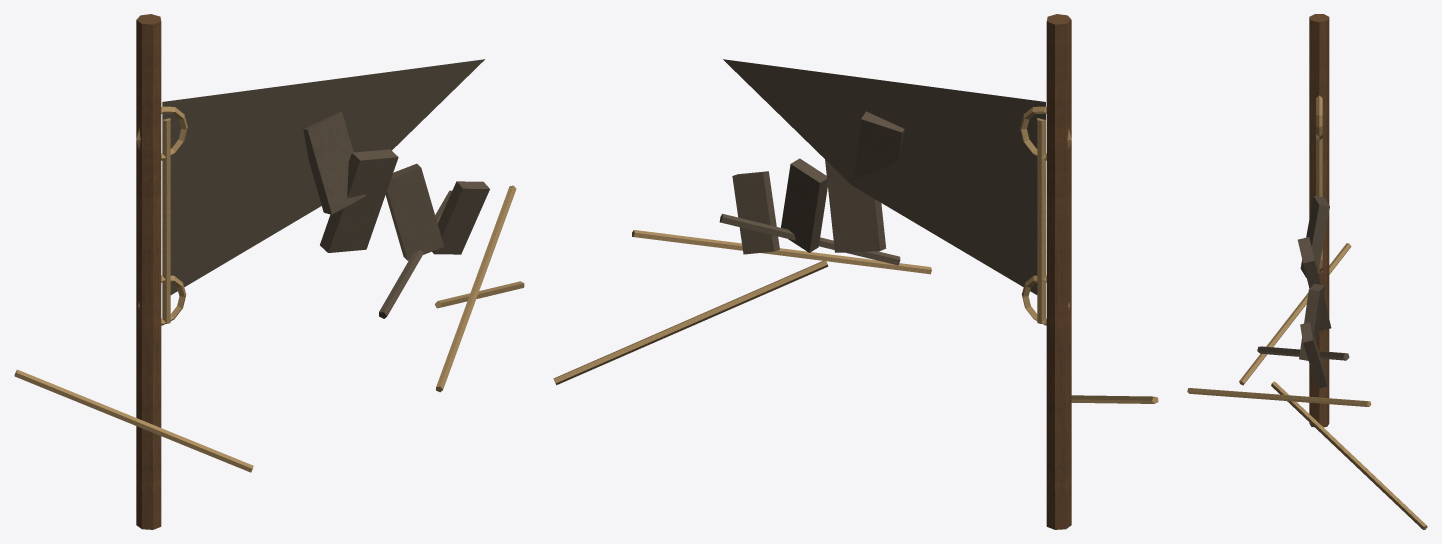
The model's file is pr-014_signal_flag_cloth_strip__storm_damaged.obj.
3 renders of one model, left to right at view 1: azimuth 30°, elevation 25°; view 2: azimuth 150°, elevation 25°; view 3: azimuth 270°, elevation 25°, orthographic. The views are drawn at different scales.
Parts seen in each view (by area): view 1: pr-014_signal_flag_cloth_strip__storm_damaged; view 2: pr-014_signal_flag_cloth_strip__storm_damaged; view 3: pr-014_signal_flag_cloth_strip__storm_damaged.
Part boxes in pixels (left/top/right/bottom): pr-014_signal_flag_cloth_strip__storm_damaged: left=14, top=14, right=524, bottom=529; pr-014_signal_flag_cloth_strip__storm_damaged: left=553, top=14, right=1158, bottom=529; pr-014_signal_flag_cloth_strip__storm_damaged: left=1187, top=14, right=1427, bottom=529.
Size of the model in its own units: 1.29 by 1.12 by 0.6011.
Materials: 3 (3 with a texture image).
